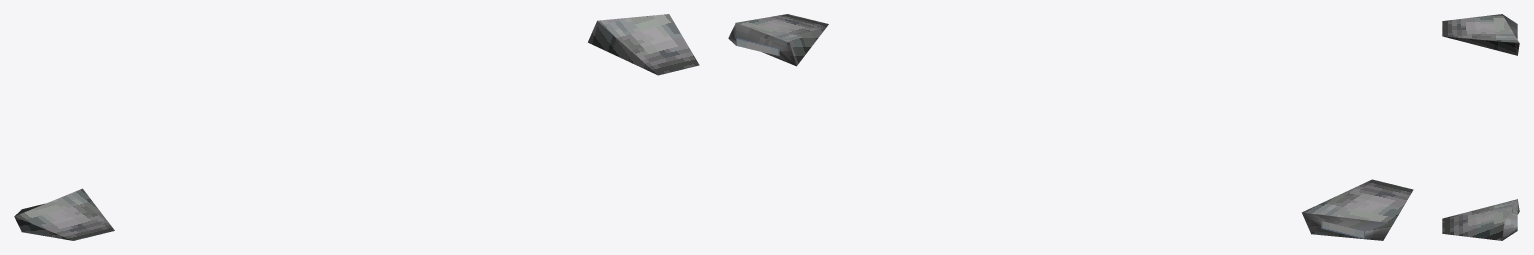
Rendered from xwing_booster_neg_s01_l3.fbx.
3 views of the same model, side by side, from view 1: azimuth 30°, elevation 25°; view 2: azimuth 150°, elevation 25°; view 3: azimuth 270°, elevation 25° (orthographic). The views are drawn at different scales.
Parts seen in each view (by area): view 1: mesh_node; view 2: mesh_node; view 3: mesh_node.
Part boxes in pixels (x1=…): mesh_node: x1=14, y1=14, x2=699, y2=240; mesh_node: x1=728, y1=14, x2=1413, y2=240; mesh_node: x1=1442, y1=14, x2=1519, y2=240.
Bounding box in the file's own units: 8.52 × 0.7857 × 1.14.
Materials: 1 (1 with a texture image).
